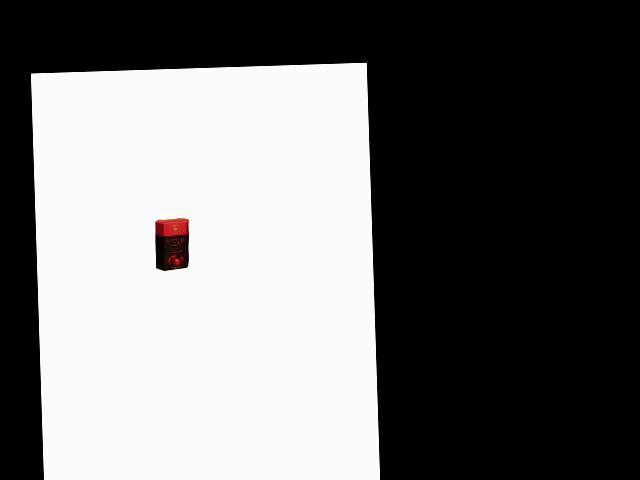chocolate: (153, 216, 190, 275)
